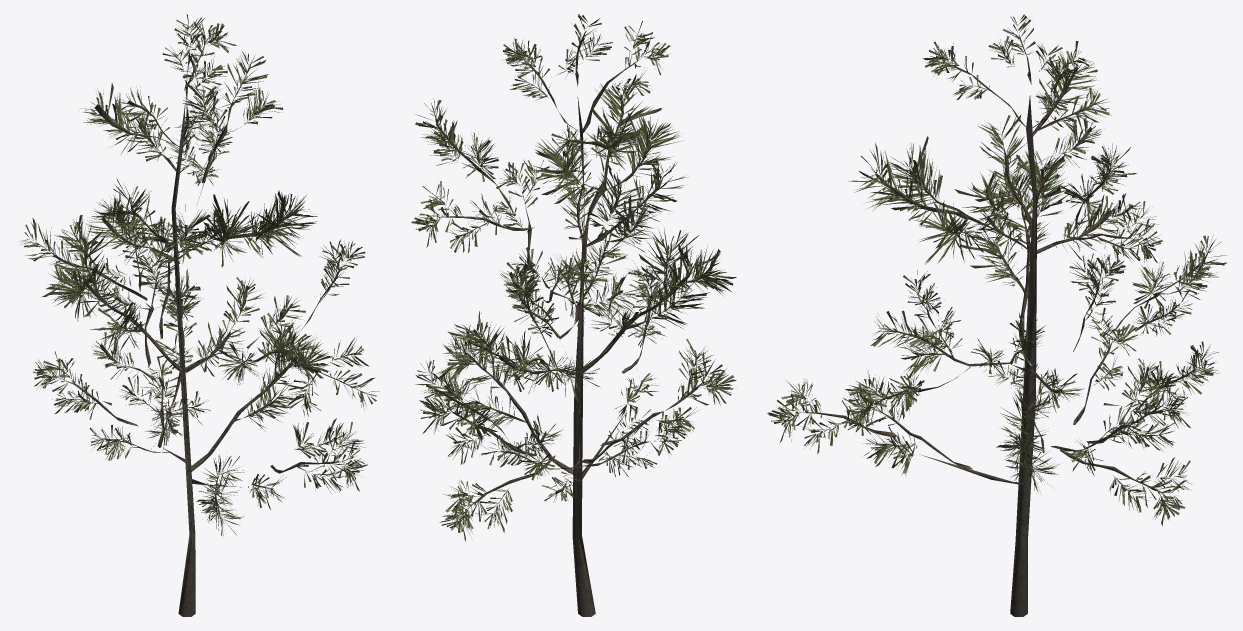
Rendered from pine_sapling_small.glb.
3 views of the same model, side by side, from view 1: azimuth 30°, elevation 25°; view 2: azimuth 150°, elevation 25°; view 3: azimuth 270°, elevation 25° (orthographic). The views are drawn at different scales.
Parts seen in each view (by area): view 1: pine_sapling_small_b; view 2: pine_sapling_small_b; view 3: pine_sapling_small_b.
Part boxes in pixels (x1,y1,x2,y2): pine_sapling_small_b: (20,14,379,616); pine_sapling_small_b: (411,14,736,616); pine_sapling_small_b: (767,14,1226,616).
Size of the model in its own units: 0.5287 by 1.05 by 0.7303.
Materials: 2 (2 with a texture image).
